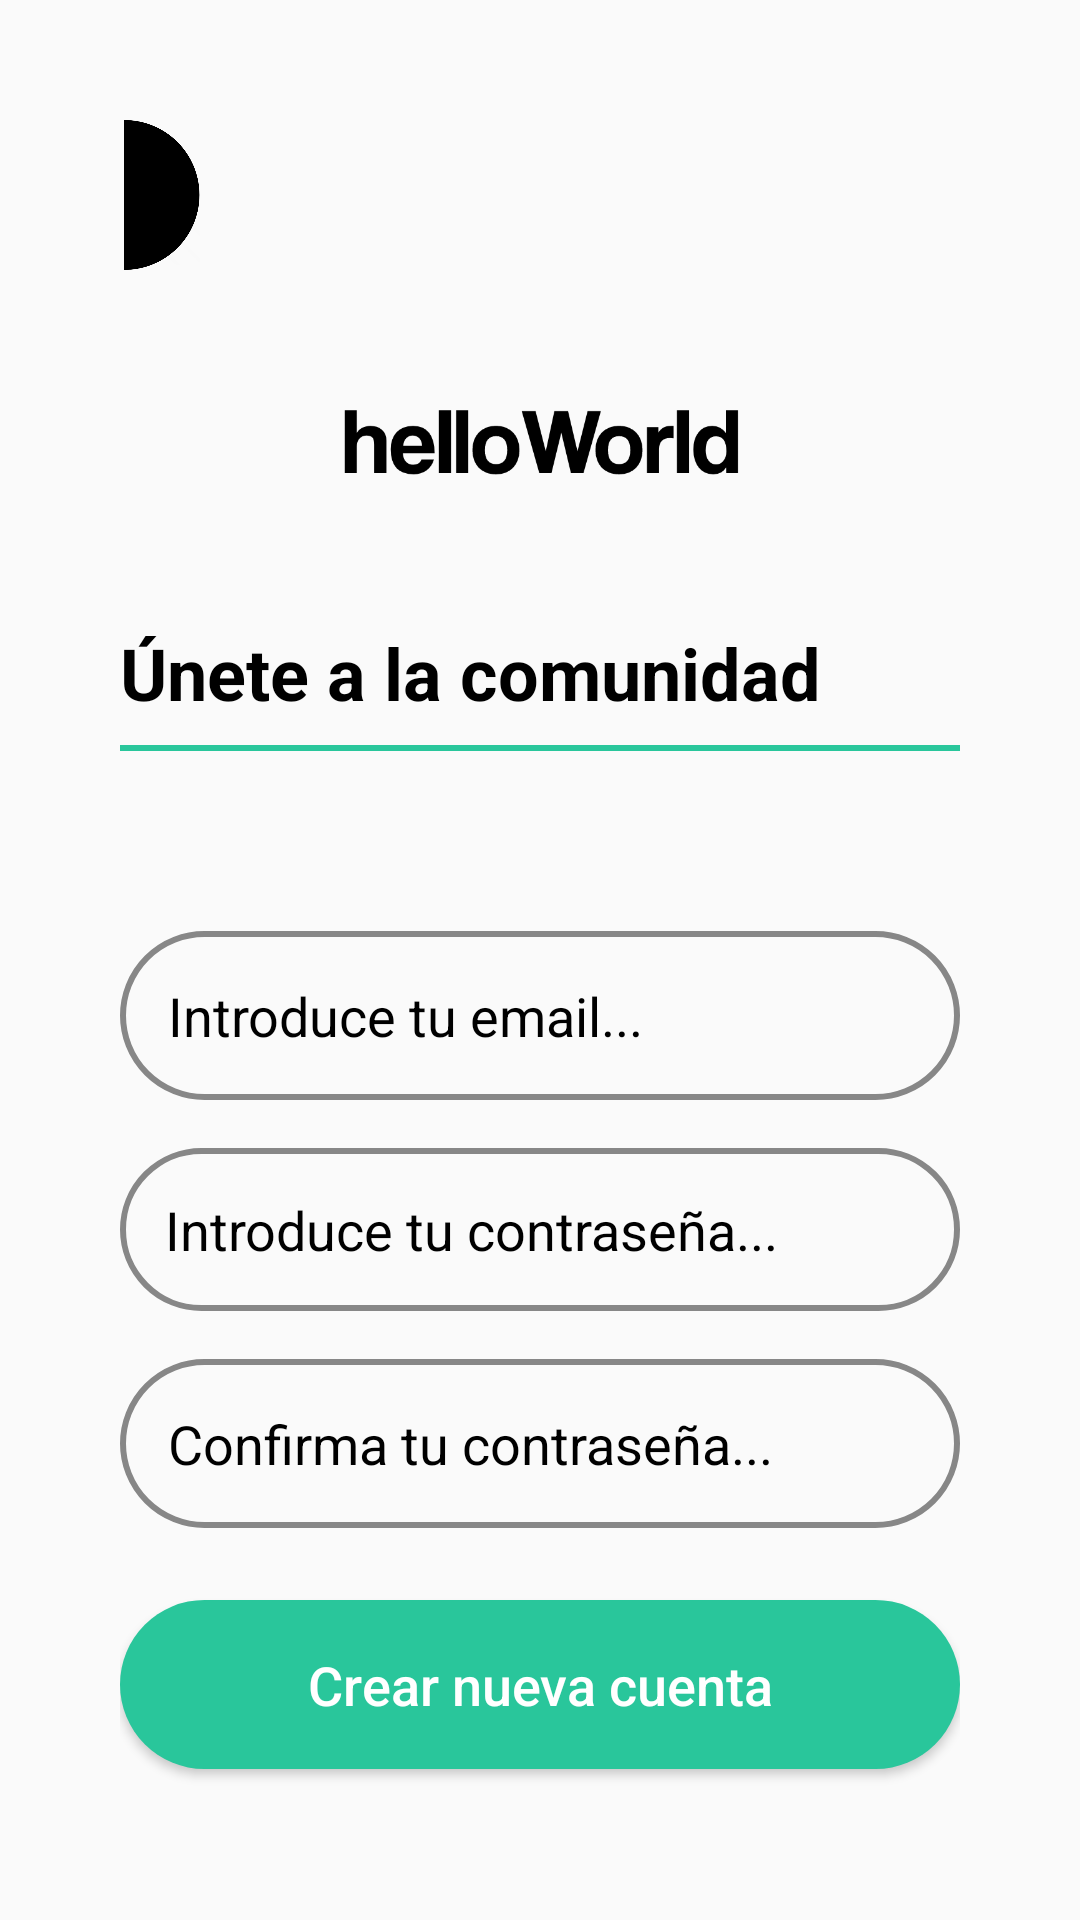

Point at icon controls on the screen. Image size 1080px x 1920px, points as (x,y).
semicirculo: (162,195)
